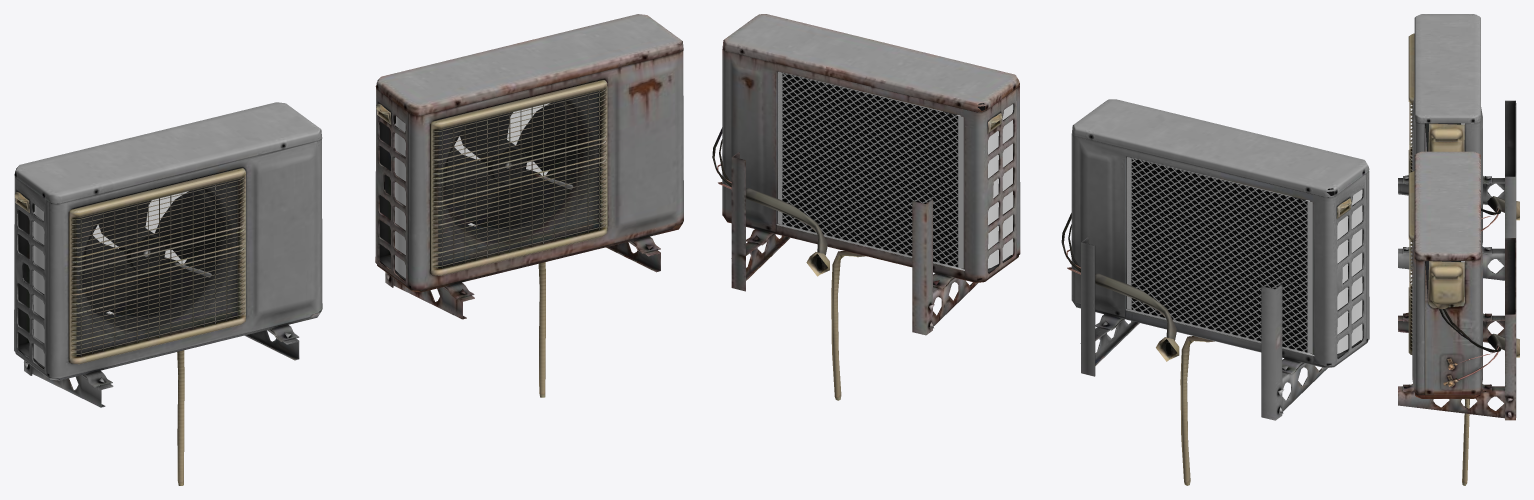
Rendered from exterior_aircon_unit.gltf.
3 renders of one model, left to right at view 1: azimuth 30°, elevation 25°; view 2: azimuth 150°, elevation 25°; view 3: azimuth 270°, elevation 25°, orthographic. The views are drawn at different scales.
Visible parts, largest first — view 1: exterior_aircon_unit, exterior_aircon_unit_rusted; view 2: exterior_aircon_unit, exterior_aircon_unit_rusted; view 3: exterior_aircon_unit_rusted, exterior_aircon_unit.
Boxes of the visible parts, x1,y1,x2,y2 form: exterior_aircon_unit: (14, 102, 322, 485); exterior_aircon_unit_rusted: (375, 14, 683, 397); exterior_aircon_unit: (1061, 99, 1369, 485); exterior_aircon_unit_rusted: (712, 14, 1020, 400); exterior_aircon_unit_rusted: (1398, 151, 1519, 485); exterior_aircon_unit: (1398, 14, 1519, 280).
Size of the model in its own units: 1.8 by 0.9277 by 0.3742.
Materials: 4 (4 with a texture image).
